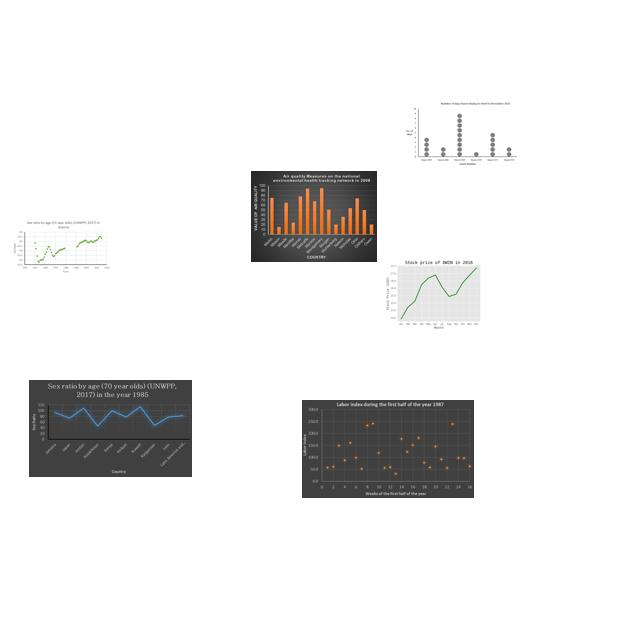Graph: (302, 400, 474, 498), (29, 380, 192, 477), (251, 171, 377, 262), (384, 253, 491, 333), (405, 101, 517, 167), (11, 219, 111, 274)
